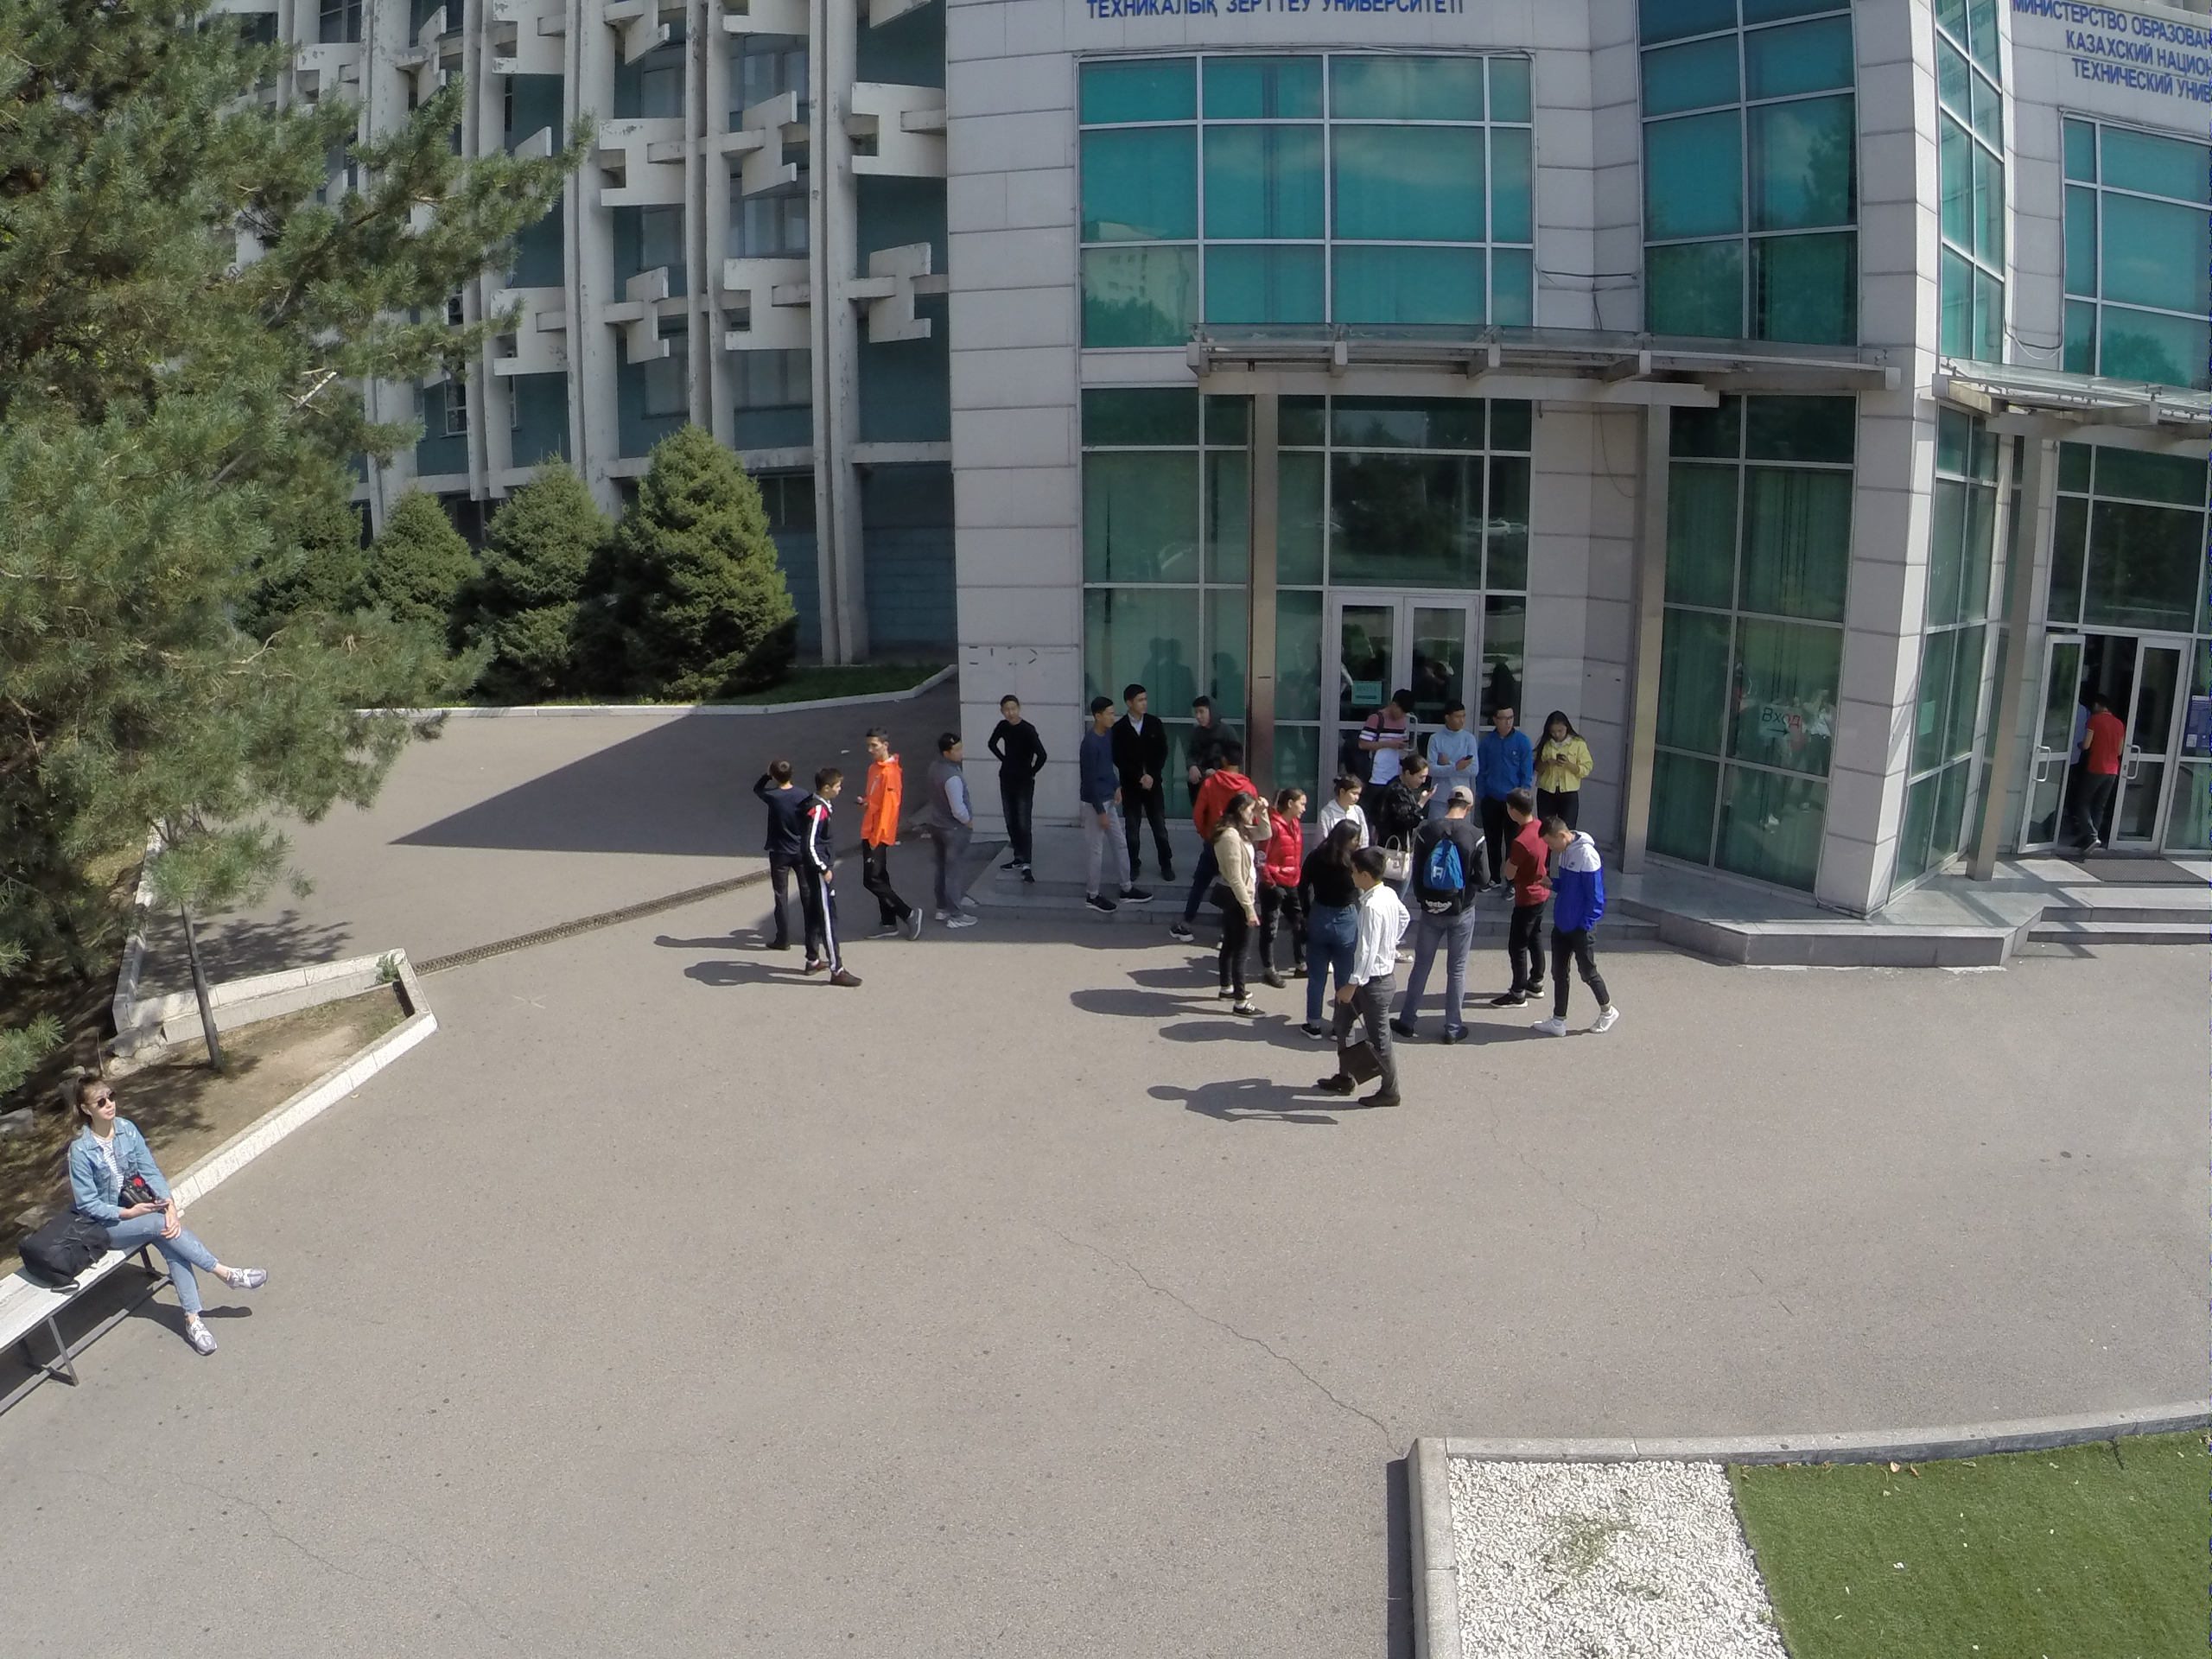person: (65, 1069, 261, 1362), (1394, 782, 1492, 1050), (1536, 813, 1623, 1043), (1337, 844, 1406, 1120), (1294, 823, 1366, 1047), (1205, 793, 1272, 1022), (857, 727, 918, 945), (1077, 700, 1138, 920), (802, 772, 855, 998), (744, 760, 804, 954), (999, 697, 1049, 892), (1123, 689, 1173, 880), (2074, 693, 2125, 854), (934, 731, 970, 932), (1269, 793, 1306, 990), (1535, 708, 1594, 824), (1357, 693, 1414, 797), (1481, 700, 1539, 796), (1423, 700, 1478, 788), (1205, 741, 1243, 810), (1188, 695, 1229, 753), (1325, 779, 1366, 831)
